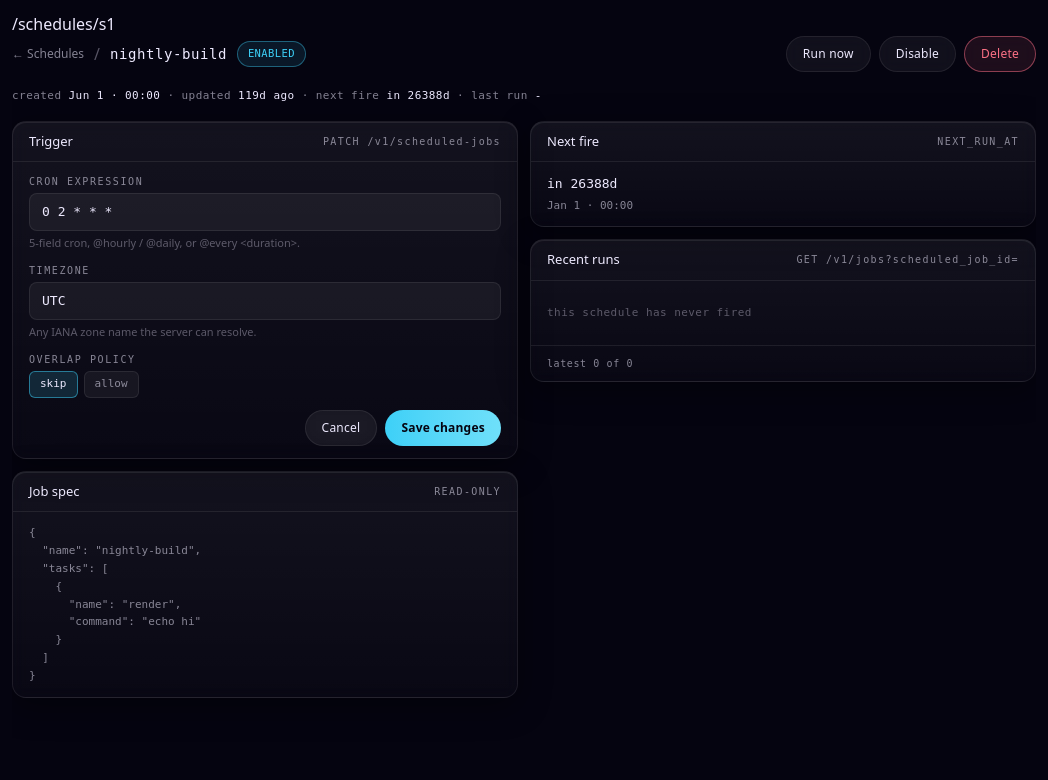
it: a newer settled action is not masked by an older settled action error
This screenshot has width=1048, height=780.
Expected: the text "nightly-build" is shown, [110,44,227,64]
// Run now fails: the banner shows its error.
Click the button "Run now" at (828, 54), box [786,36,871,72]
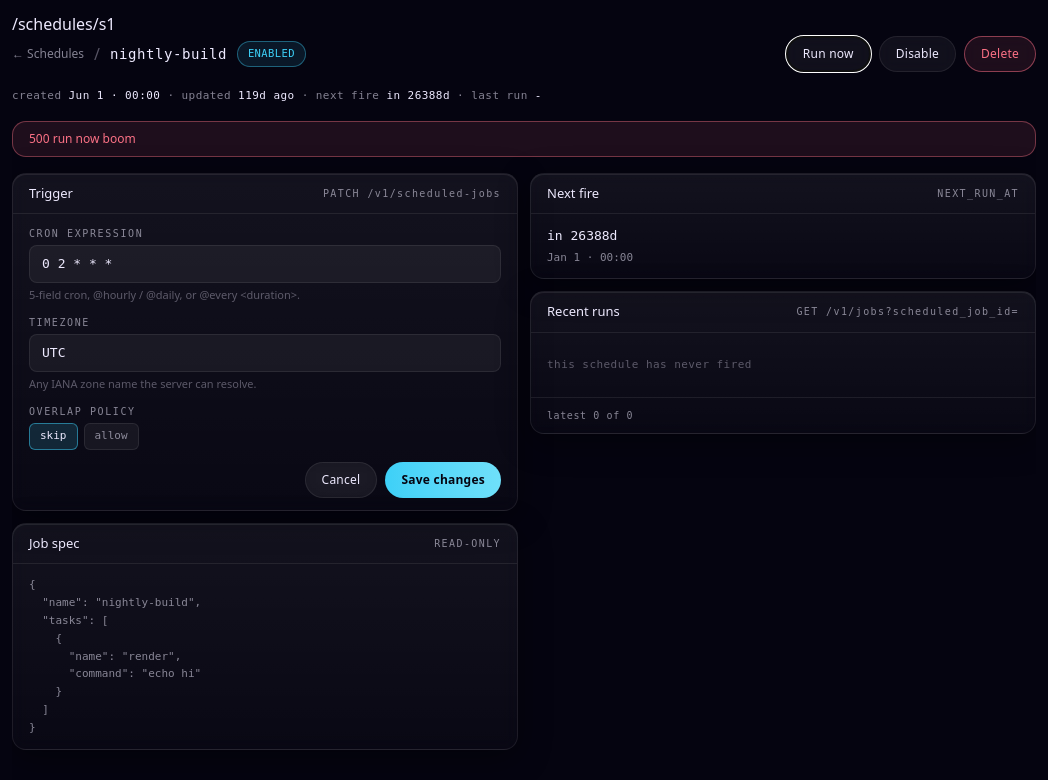
Expected: the message shows "run now boom", [29,130,136,146]
// Disable succeeds. The stale Run now error must not keep the banner up.
Click the button "Disable" at (917, 54), box [879,36,956,72]
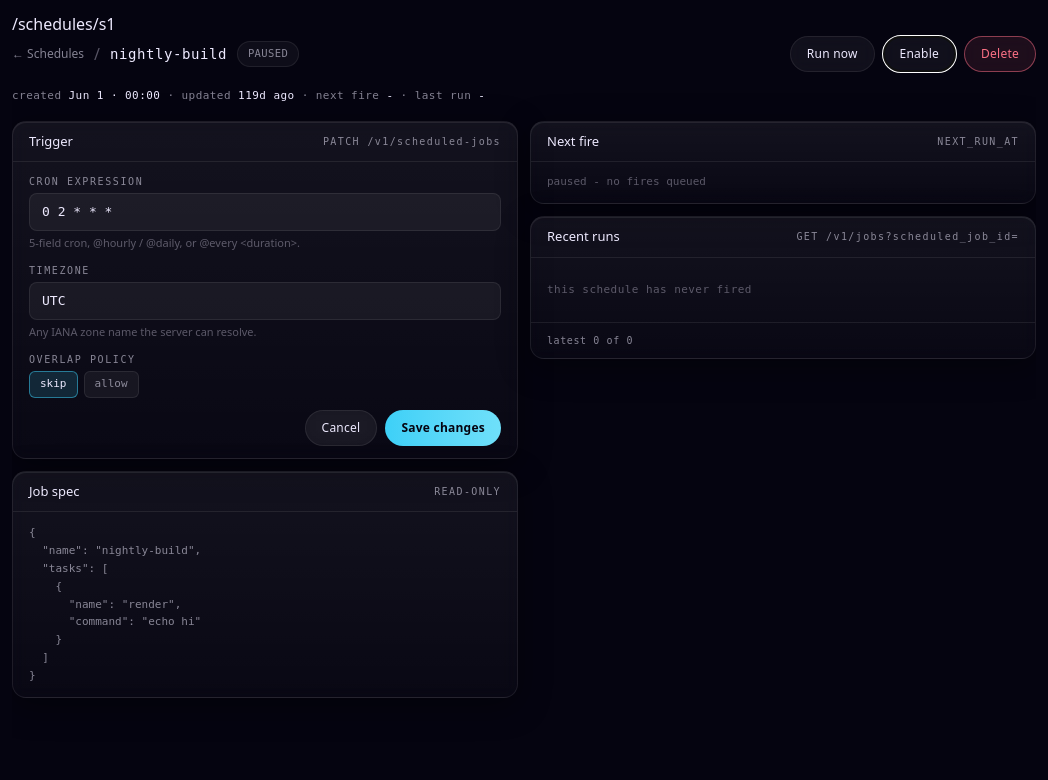
Expected: the message "500 run now boom" is gone
Click the button "Enable" at (919, 54), box [882,36,956,72]
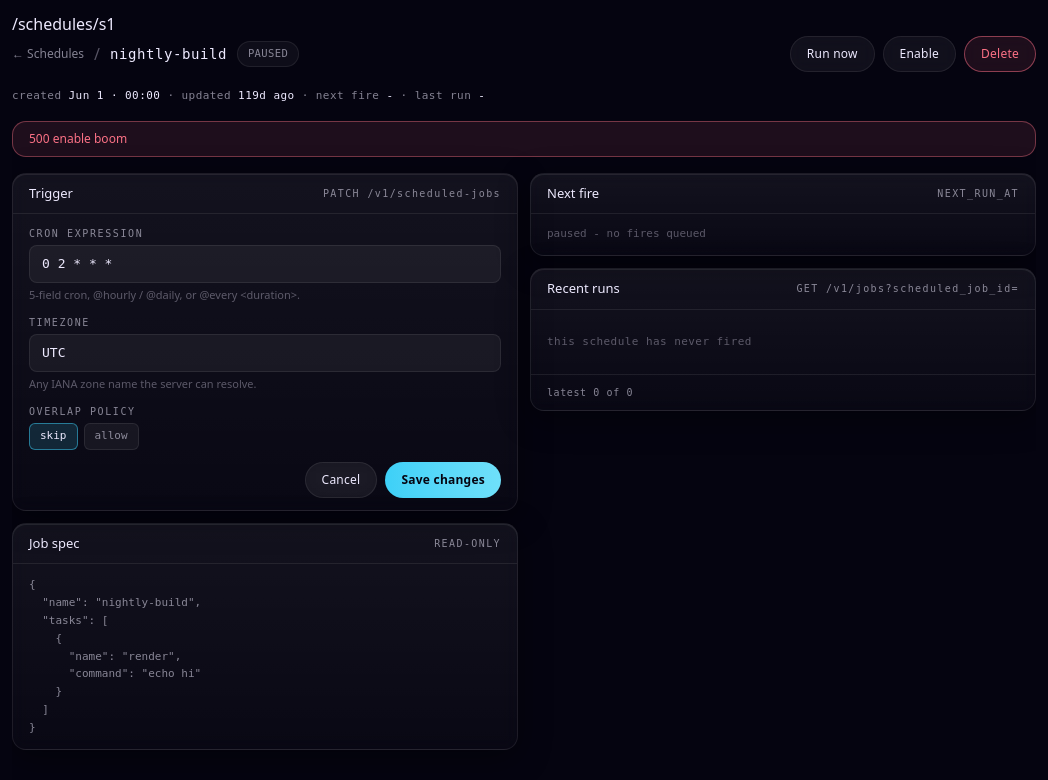
Expected: the message shows "enable boom", [29,130,127,146]
